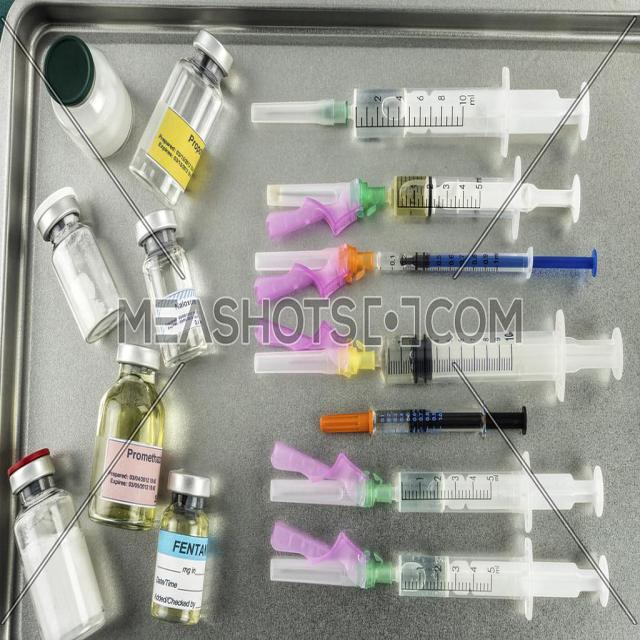B3: (359, 307, 628, 407), (341, 64, 594, 161), (376, 532, 613, 624), (129, 17, 236, 212), (368, 153, 586, 243), (378, 448, 606, 534), (4, 444, 104, 640), (29, 174, 127, 351), (84, 339, 165, 532), (129, 205, 215, 372), (360, 231, 604, 288), (146, 467, 212, 629), (367, 398, 536, 437)
